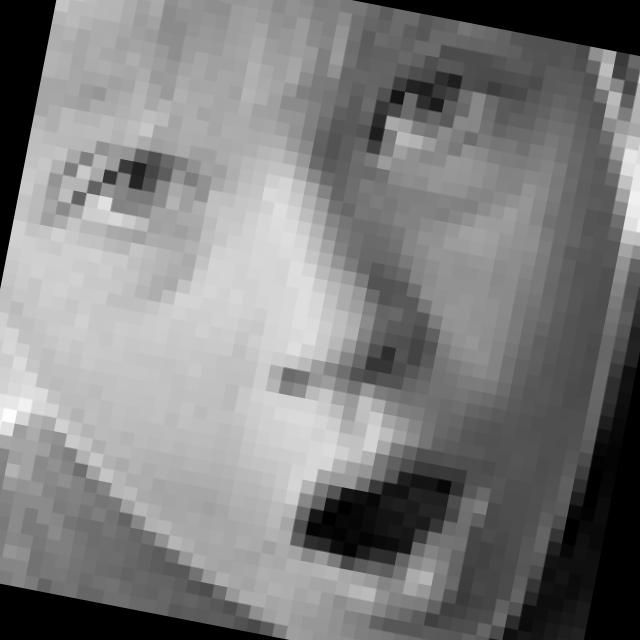surprise: (0, 0, 613, 638)
